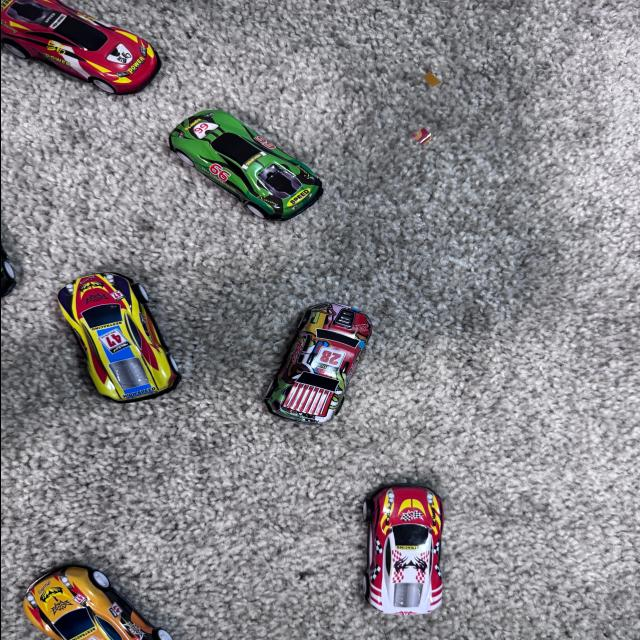car: (244, 282, 388, 452), (346, 461, 456, 631), (62, 269, 195, 402), (0, 0, 158, 110), (171, 102, 319, 218), (16, 549, 199, 640)
